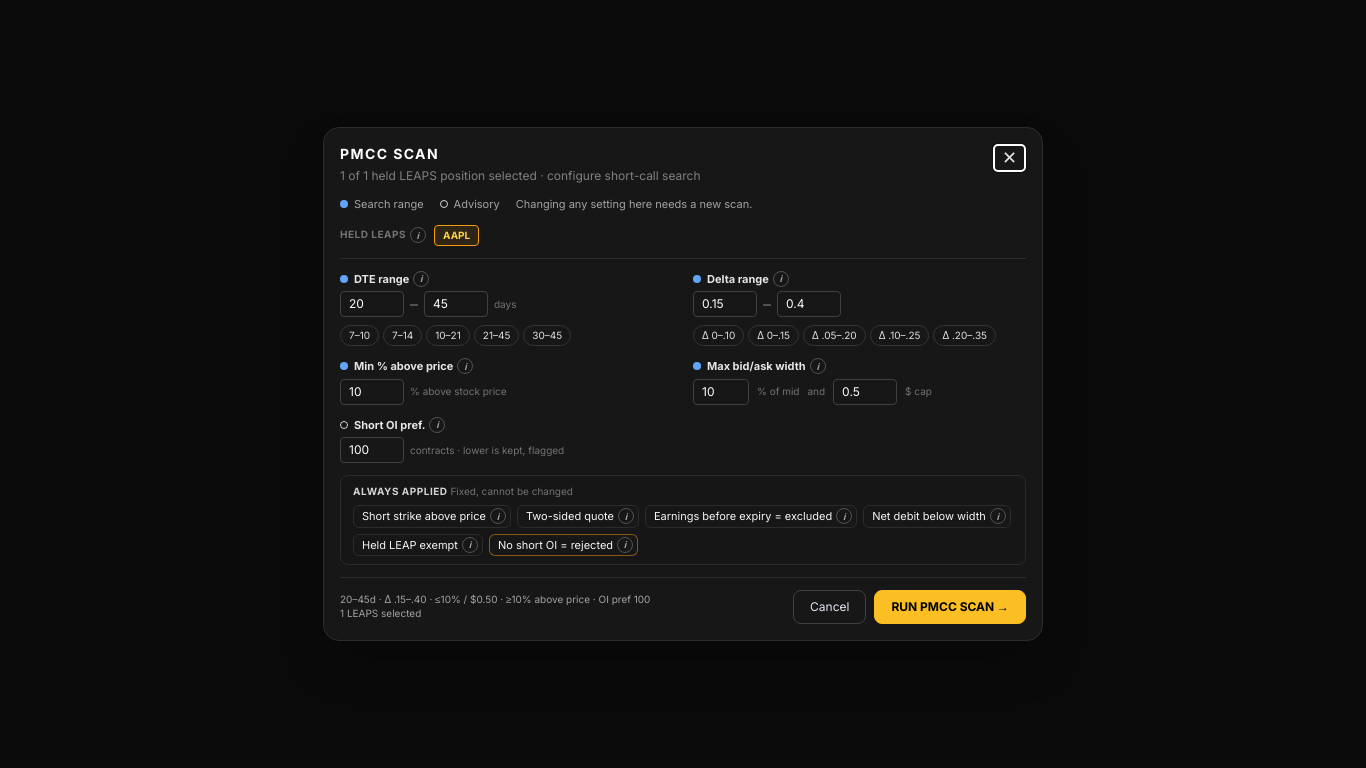
SCAN-MODAL-UX-0002A PMCC compact layout › shows a recap that follows the fields and the selection count
Expected: the element with test id "pmcc-rule-preview" shows "20–45d · Δ .15–.40 · ≤10% / $0.50 · ≥10% above price · OI pref 100", x1=340 y1=593 x2=650 y2=605
Expected: the element with test id "pmcc-rule-preview" shows "1 LEAPS selected", x1=340 y1=607 x2=421 y2=619
Click the button "Δ .20–.35" at [965, 336], box x1=934 y1=325 x2=996 y2=346
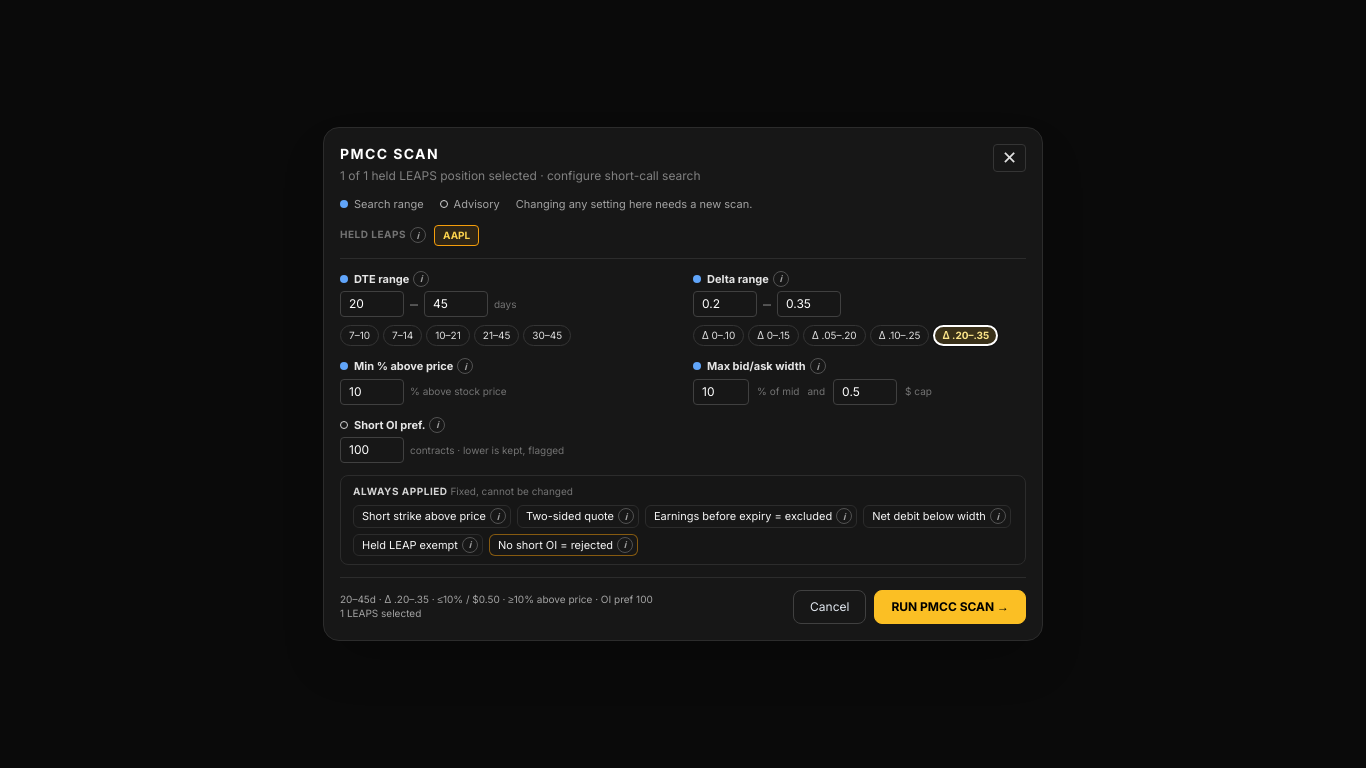
Result: the element with test id "pmcc-rule-preview" shows "Δ .20–.35" at x1=340 y1=593 x2=653 y2=605
